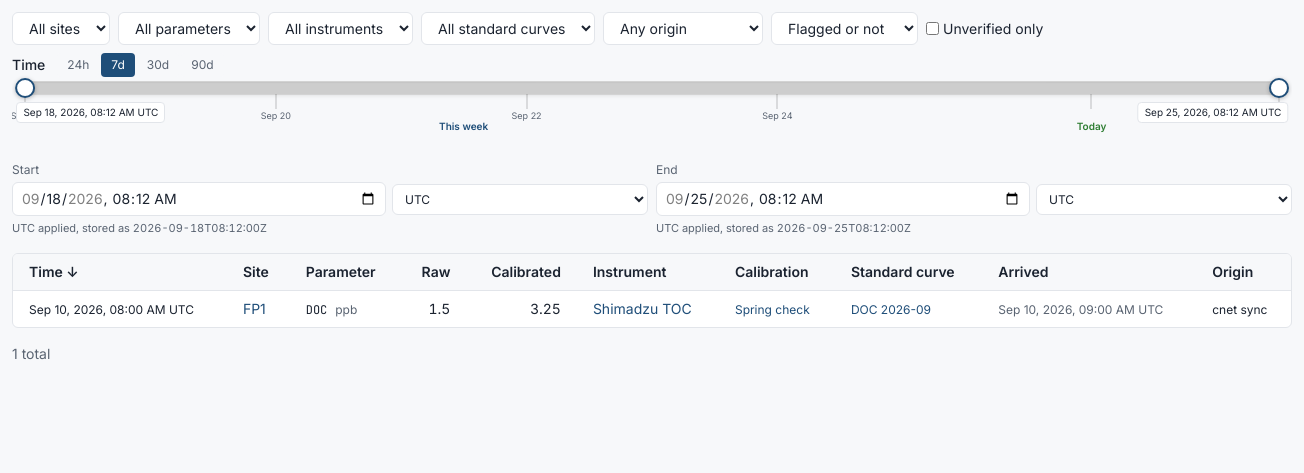
Test case: ReadingsList › opens the point record under the row
The width and height of the screenshot is (1304, 473).
Click the text "1.5".
click(439, 308)  # box x1=428 y1=300 x2=450 y2=316
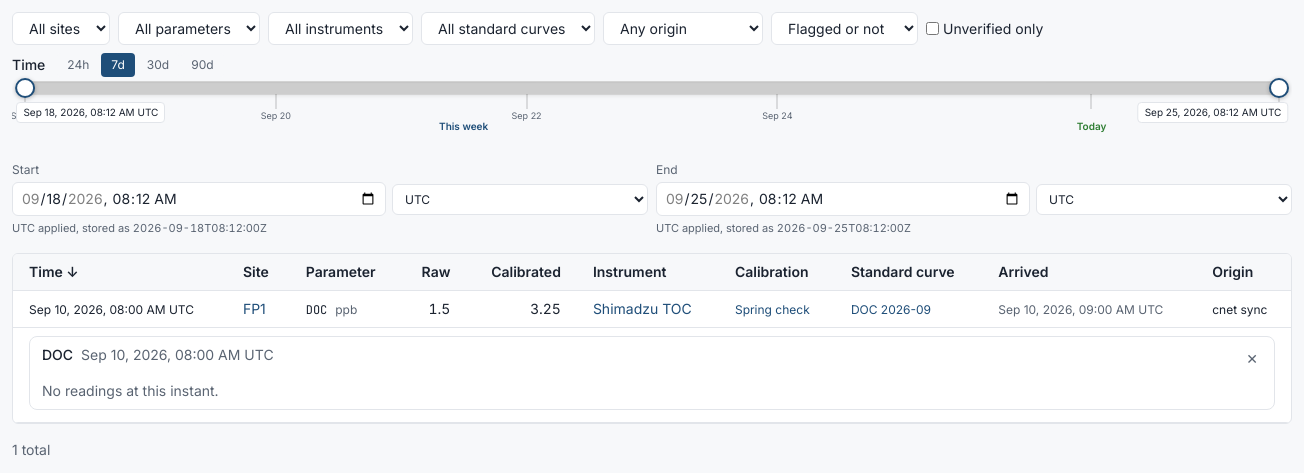
Check: the element with test id "point-record" is shown, box x1=29 y1=336 x2=1275 y2=410
